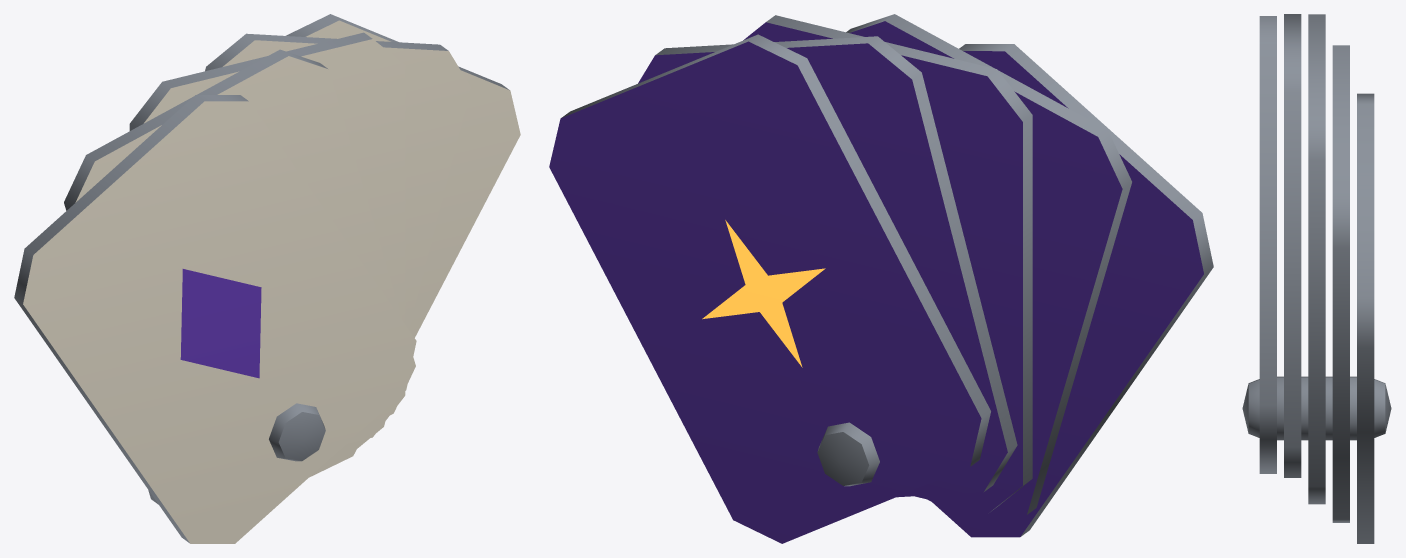
Rendered from trick-deck-2.glb.
The picture shows the model from 3 angles, left to right: view 1: azimuth 30°, elevation 25°; view 2: azimuth 150°, elevation 25°; view 3: azimuth 270°, elevation 25°; orthographic projection. The views are drawn at different scales.
Parts seen in each view (by area): view 1: trick-deck-2; view 2: trick-deck-2; view 3: trick-deck-2.
Part boxes in pixels (x1,y1,x2,y2): trick-deck-2: (14, 14, 520, 543); trick-deck-2: (549, 14, 1213, 543); trick-deck-2: (1242, 14, 1391, 543).
Size of the model in its own units: 0.1436 by 0.1161 by 0.0344.
